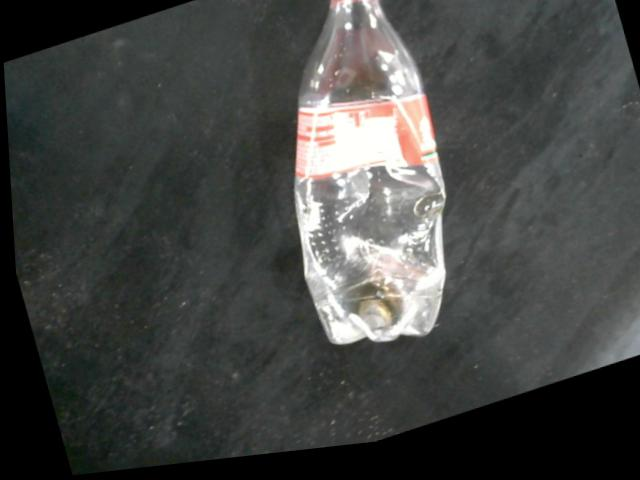bottle: (288, 0, 446, 354)
